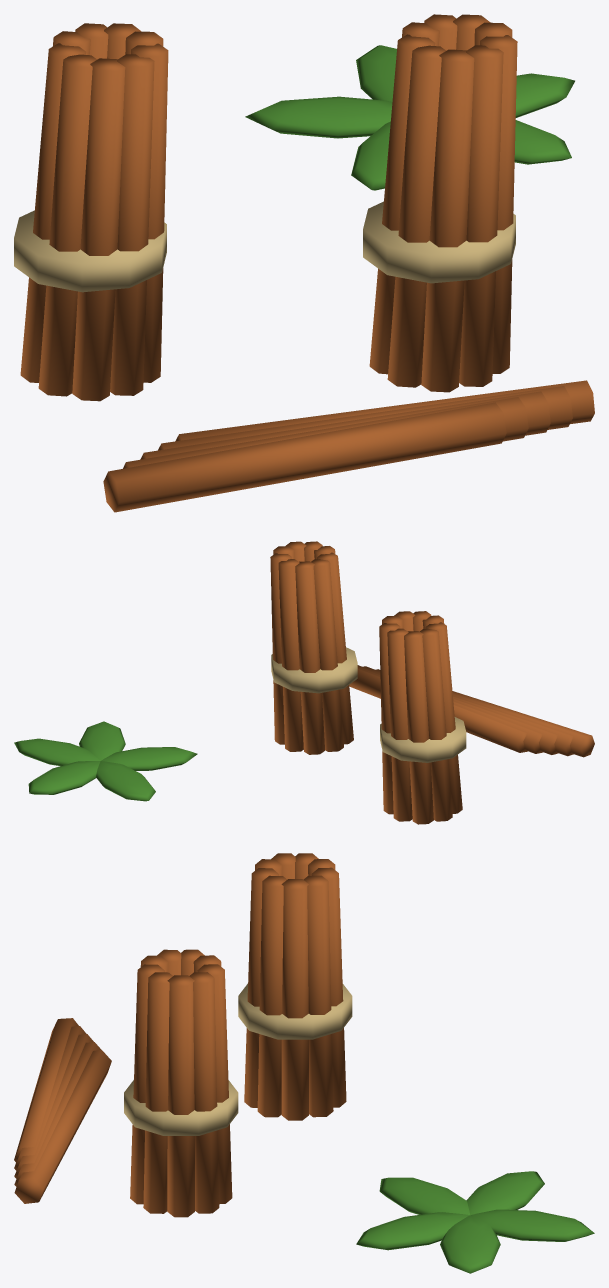
The model's file is resource_cinnamon.fbx.
3 renders of one model, top to bottom at view 1: azimuth 30°, elevation 25°; view 2: azimuth 150°, elevation 25°; view 3: azimuth 270°, elevation 25°, orthographic. The views are drawn at different scales.
Visible parts, largest first — view 1: resource_cinnamon_cinn_00, resource_cinnamon_twine_01, resource_cinnamon_cinnleaf_02; view 2: resource_cinnamon_cinn_00, resource_cinnamon_cinnleaf_02, resource_cinnamon_twine_01; view 3: resource_cinnamon_cinn_00, resource_cinnamon_cinnleaf_02, resource_cinnamon_twine_01.
Part boxes in pixels (x1,y1,x2,y2): resource_cinnamon_cinn_00: [20, 14, 594, 512]; resource_cinnamon_twine_01: [14, 201, 515, 292]; resource_cinnamon_cinnleaf_02: [245, 45, 574, 190]; resource_cinnamon_cinn_00: [270, 541, 594, 824]; resource_cinnamon_cinnleaf_02: [14, 721, 197, 801]; resource_cinnamon_twine_01: [271, 647, 466, 762]; resource_cinnamon_cinn_00: [14, 853, 346, 1217]; resource_cinnamon_cinnleaf_02: [356, 1171, 594, 1273]; resource_cinnamon_twine_01: [124, 983, 352, 1135].
Bounding box in the file's own units: 82.25 × 34.29 × 76.35.
